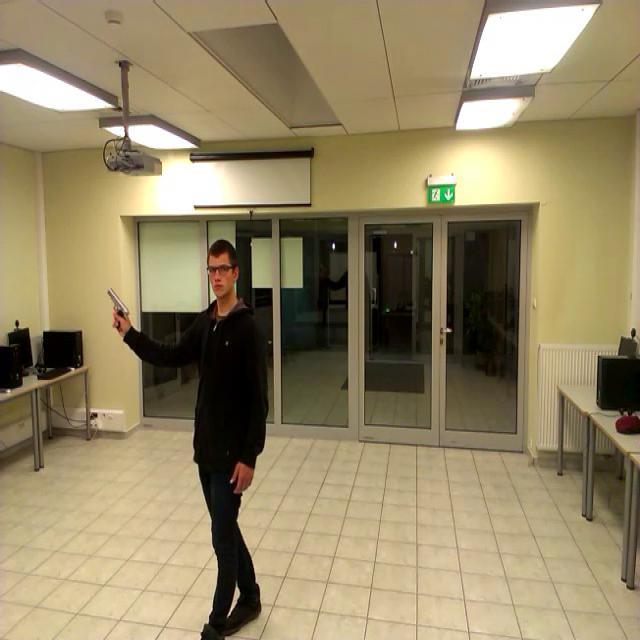Gun: (106, 286, 128, 331)
